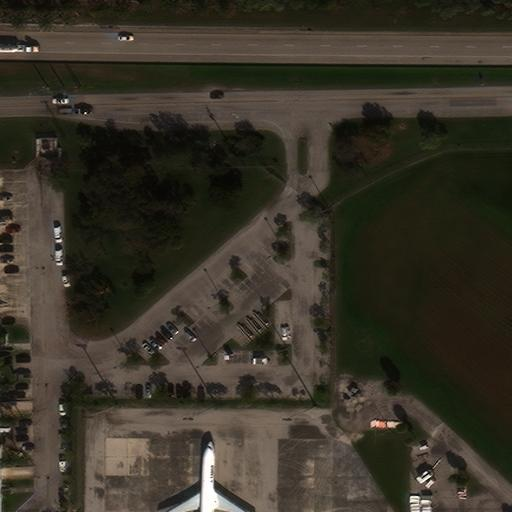Medium Civil Transport: (161, 441, 251, 512)
